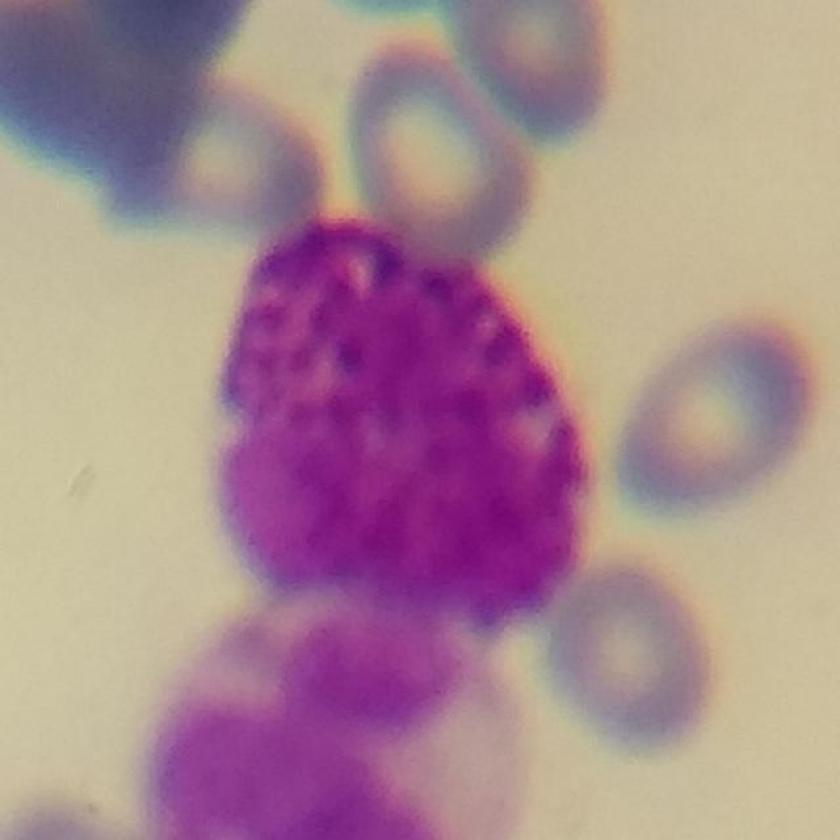basophil: (210, 206, 619, 647)
